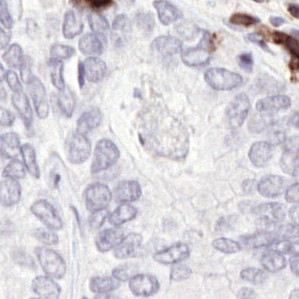Lymphocyte: (229, 12, 258, 28)
